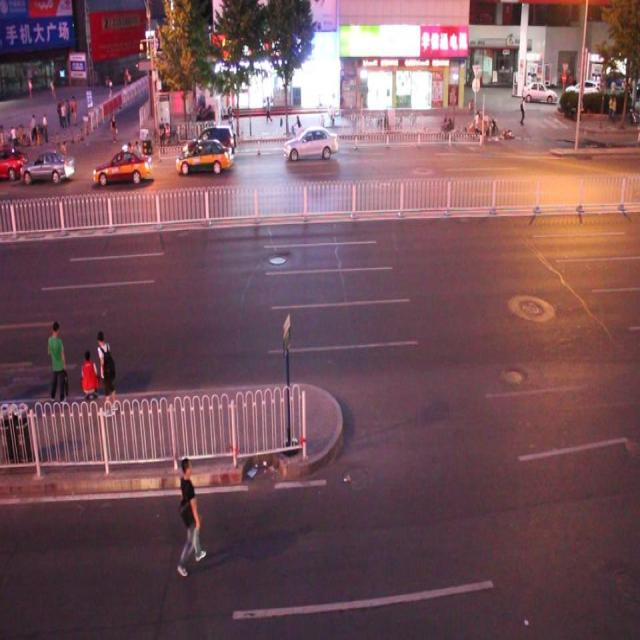car: (94, 149, 154, 186), (174, 137, 231, 172), (21, 151, 76, 186), (284, 127, 338, 162), (181, 124, 235, 158), (1, 145, 28, 180)
